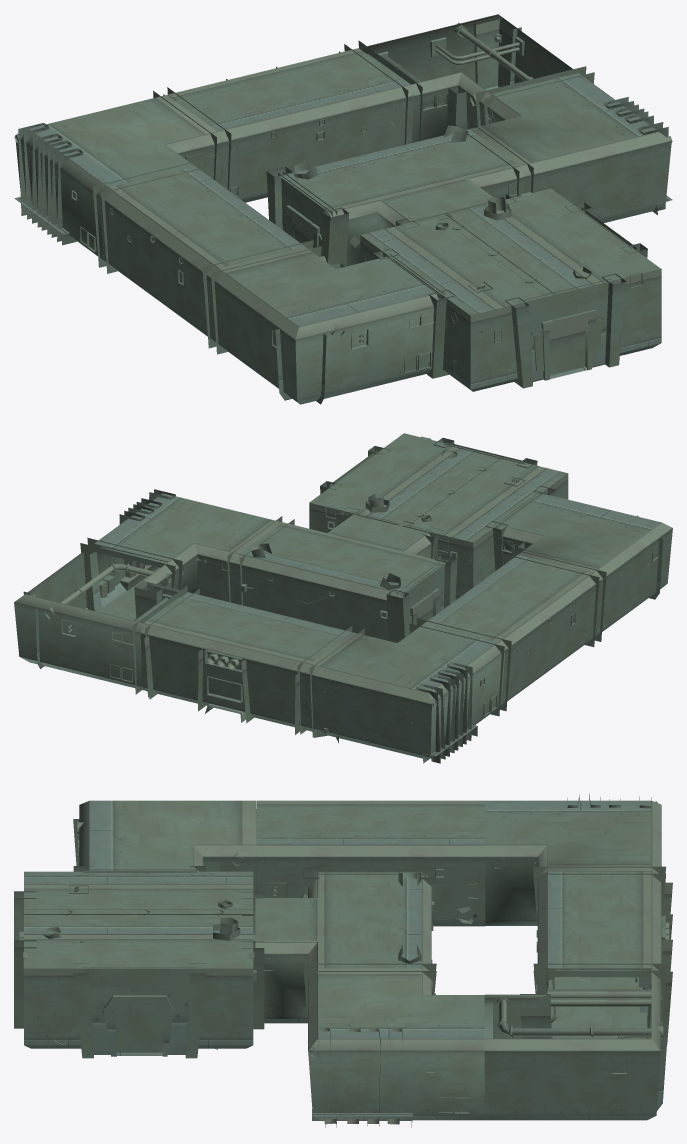
The model's file is Combined_Mesh_root_scene__19_0bed480f__zombies2_diffuse_09_d56e2e54_c1f257.obj.
3 views of the same model, one above another, from view 1: azimuth 30°, elevation 25°; view 2: azimuth 150°, elevation 25°; view 3: azimuth 270°, elevation 25° (orthographic). The views are drawn at different scales.
Size of the model in its own units: 51.83 by 9.64 by 57.53.
122 materials, 122 textured.
